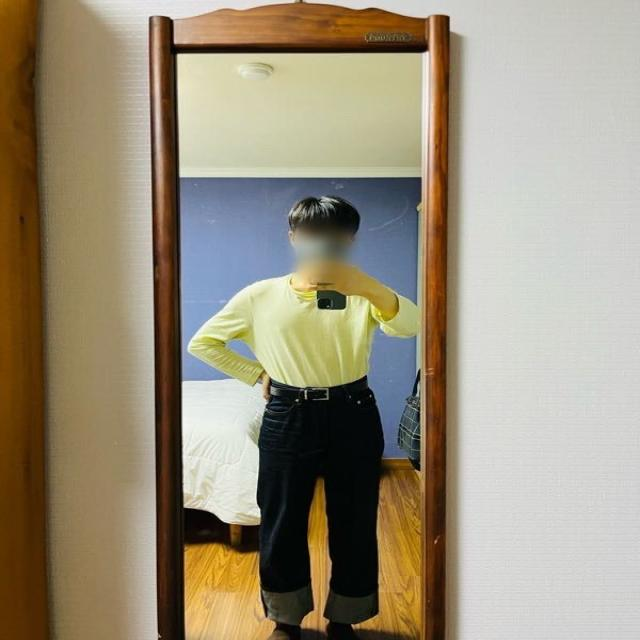denimpants: (255, 370, 384, 625)
longsleeve: (190, 273, 418, 384)
